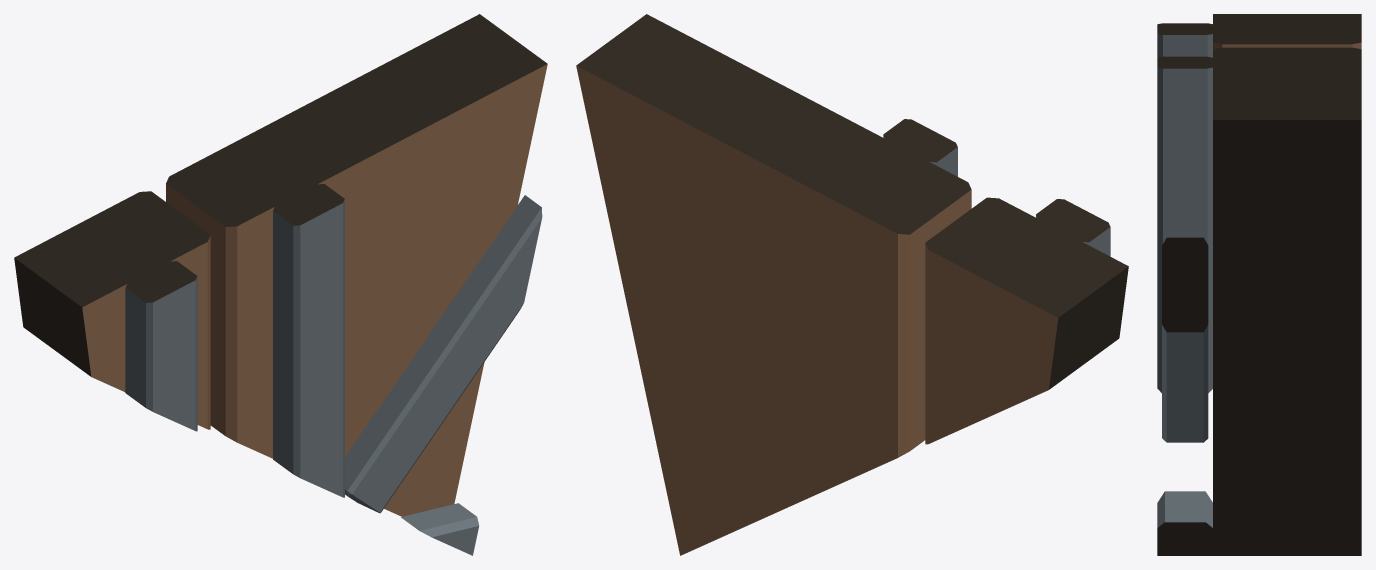
File: SM_DoorShard_03_45.fbx
3 renders of one model, left to right at view 1: azimuth 30°, elevation 25°; view 2: azimuth 150°, elevation 25°; view 3: azimuth 270°, elevation 25°, orthographic. The views are drawn at different scales.
Visible parts, largest first — view 1: SM_DoorShard_03_45; view 2: SM_DoorShard_03_45; view 3: SM_DoorShard_03_45.
Part boxes in pixels (left/top/right/bottom): SM_DoorShard_03_45: left=14, top=14, right=547, bottom=555; SM_DoorShard_03_45: left=576, top=14, right=1128, bottom=555; SM_DoorShard_03_45: left=1157, top=14, right=1361, bottom=555.
Size of the model in its own units: 63.17 by 22 by 58.2.
